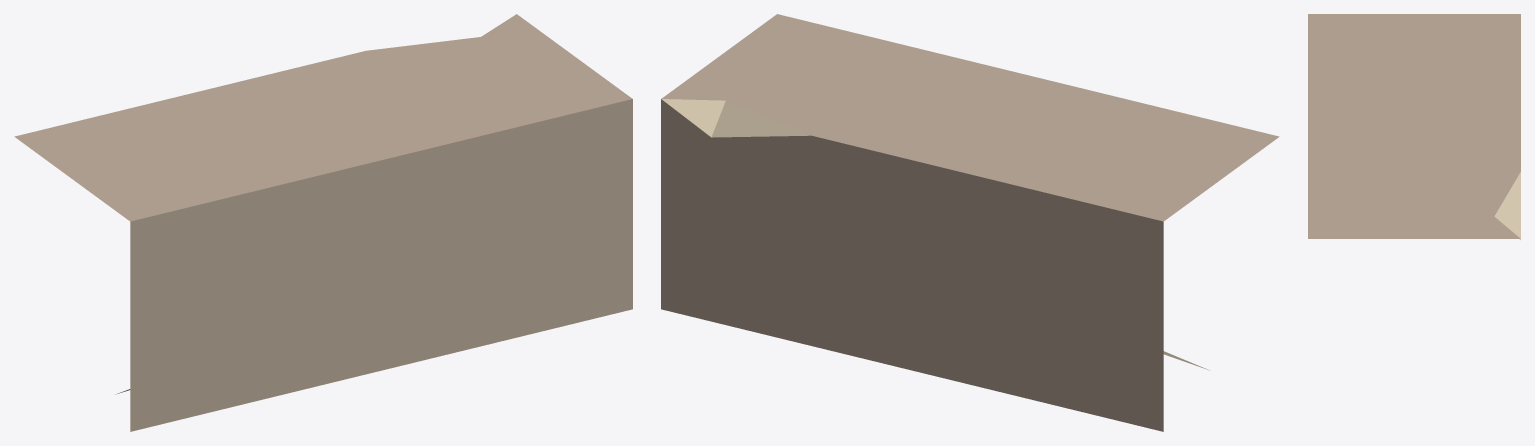
The model's file is Cave_Prop_Support_Ceiling_Beam_4.glb.
The picture shows the model from 3 angles, left to right: view 1: azimuth 30°, elevation 25°; view 2: azimuth 150°, elevation 25°; view 3: azimuth 270°, elevation 25°; orthographic projection. The views are drawn at different scales.
Visible parts, largest first — view 1: Cave_Prop_Support_Ceiling_Beam_4; view 2: Cave_Prop_Support_Ceiling_Beam_4; view 3: Cave_Prop_Support_Ceiling_Beam_4.
Part boxes in pixels (left/top/right/bottom): Cave_Prop_Support_Ceiling_Beam_4: left=14, top=14, right=632, bottom=431; Cave_Prop_Support_Ceiling_Beam_4: left=661, top=14, right=1279, bottom=431; Cave_Prop_Support_Ceiling_Beam_4: left=1308, top=14, right=1520, bottom=240.
Bounding box in the file's own units: 1 × 0.4 × 0.4.
